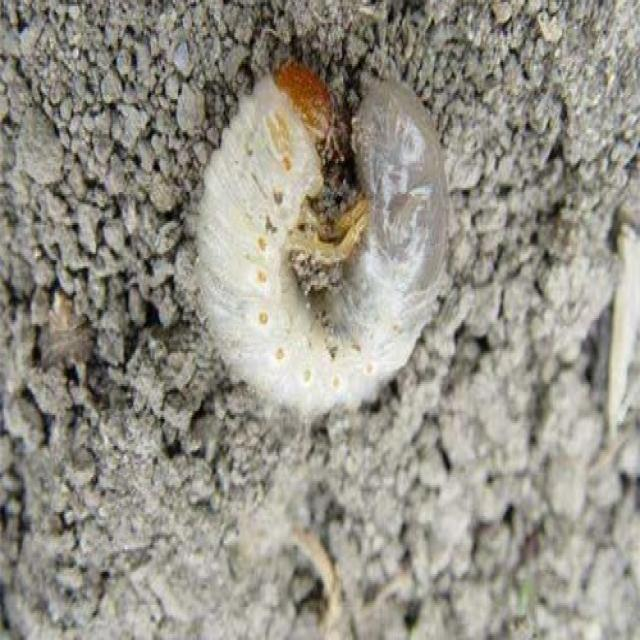grub: (192, 75, 450, 422)
